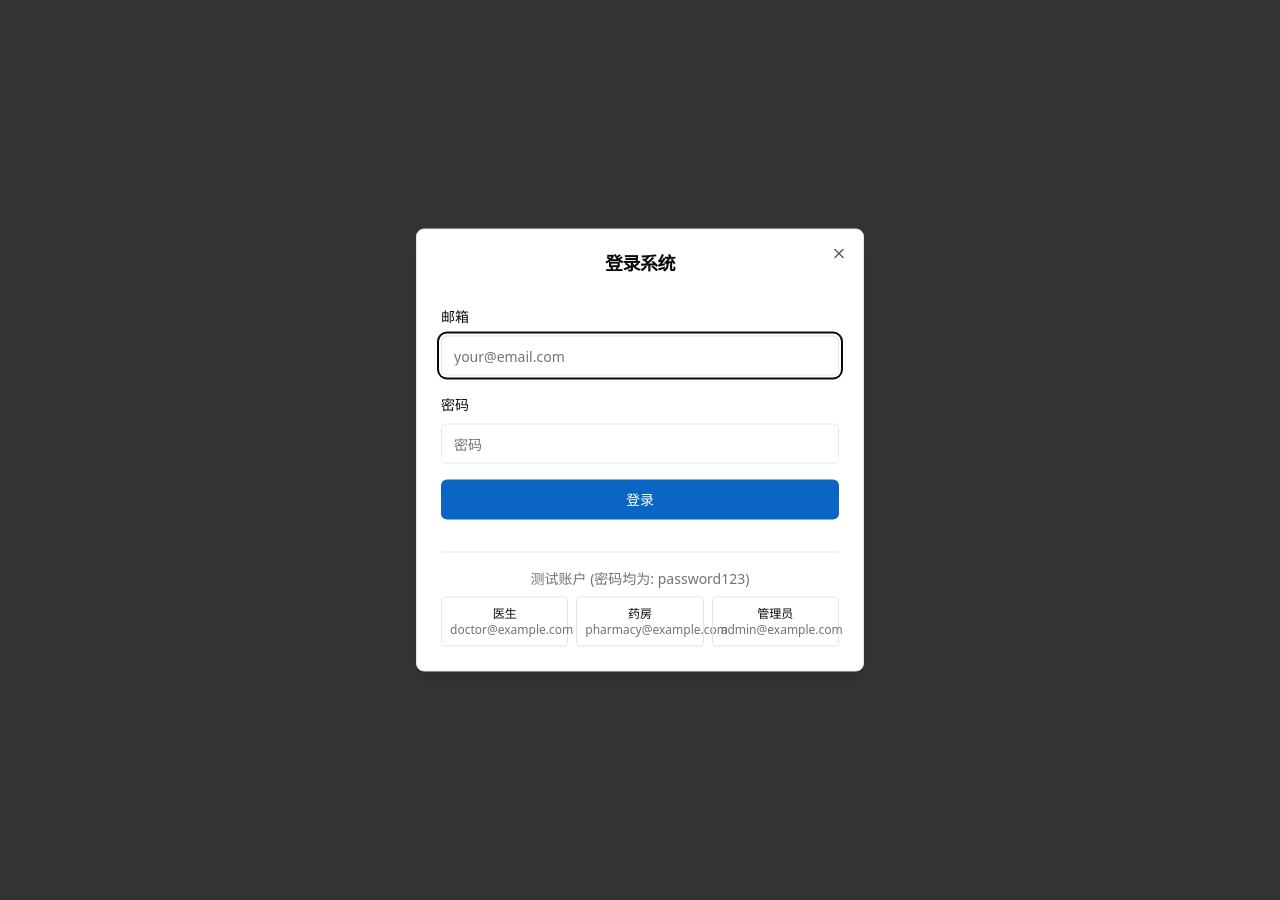
Test: LoginModal组件 › 测试账户快速填充功能
点击医生测试账户
Click the text "医生". click: (505, 613)
box: x1=493 y1=604 x2=517 y2=622
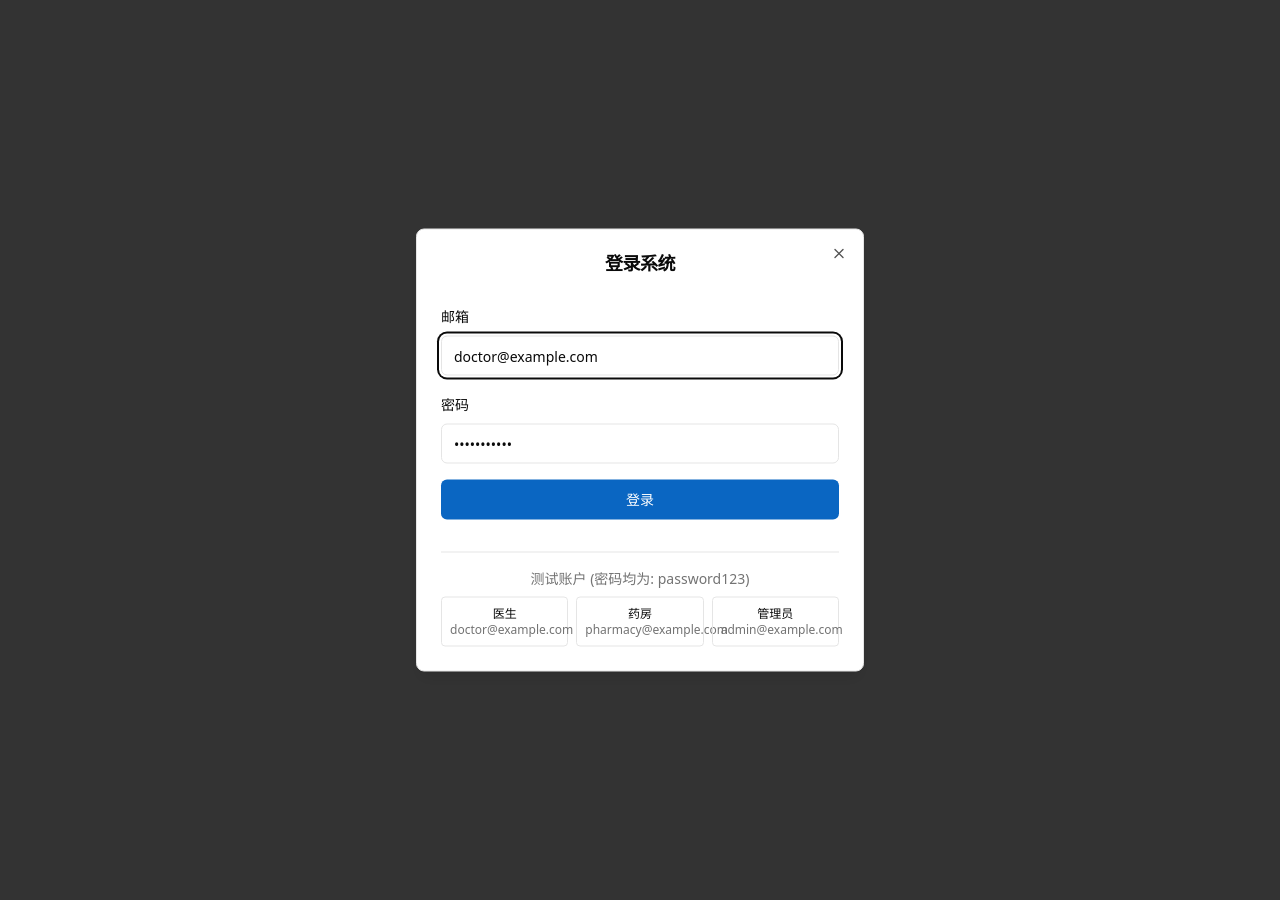
Expected: the field labelled "邮箱" holds "doctor@example.com", x1=441 y1=336 x2=839 y2=376
Expected: the password field labelled "密码" holds "password123", x1=441 y1=424 x2=839 y2=464
